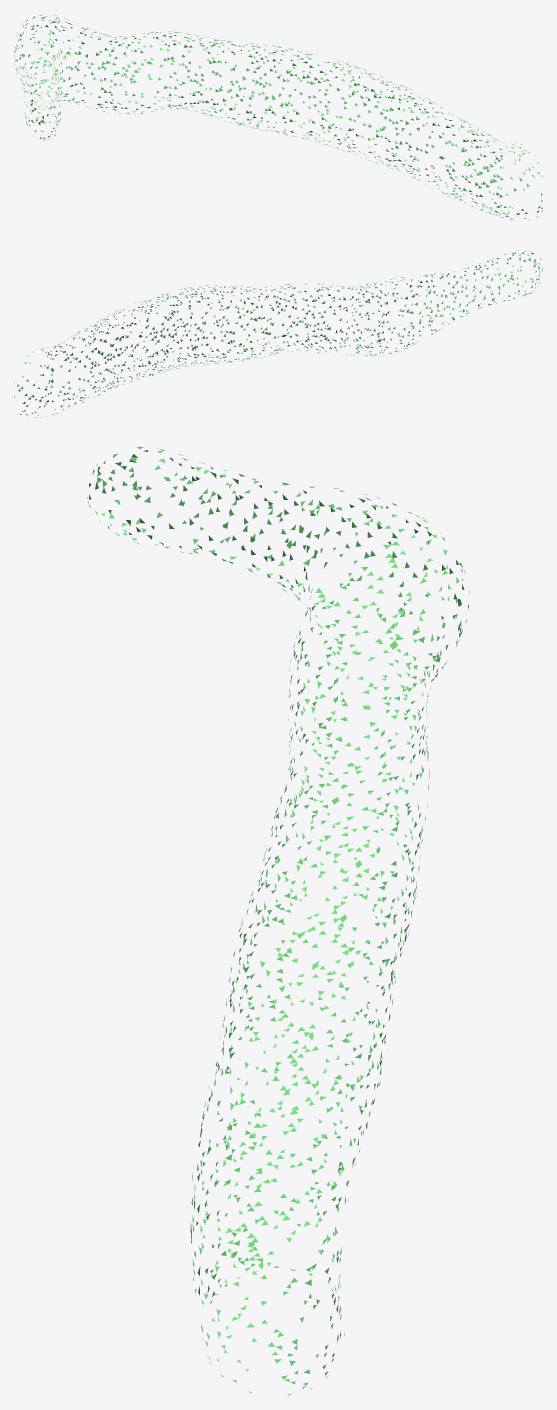
The model's file is morph_018.glb.
The picture shows the model from 3 angles, top to bottom: view 1: azimuth 30°, elevation 25°; view 2: azimuth 150°, elevation 25°; view 3: azimuth 270°, elevation 25°; orthographic projection. The views are drawn at different scales.
Bounding box in the file's own units: 112 × 57.01 × 39.47.
